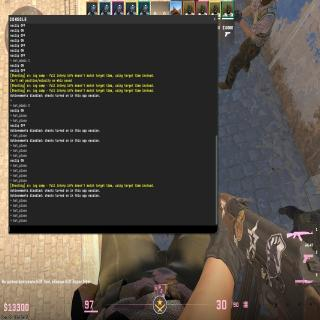CT-Body: (276, 202, 320, 244)
T-Body: (228, 0, 278, 87)
T-Head: (259, 0, 271, 8)
